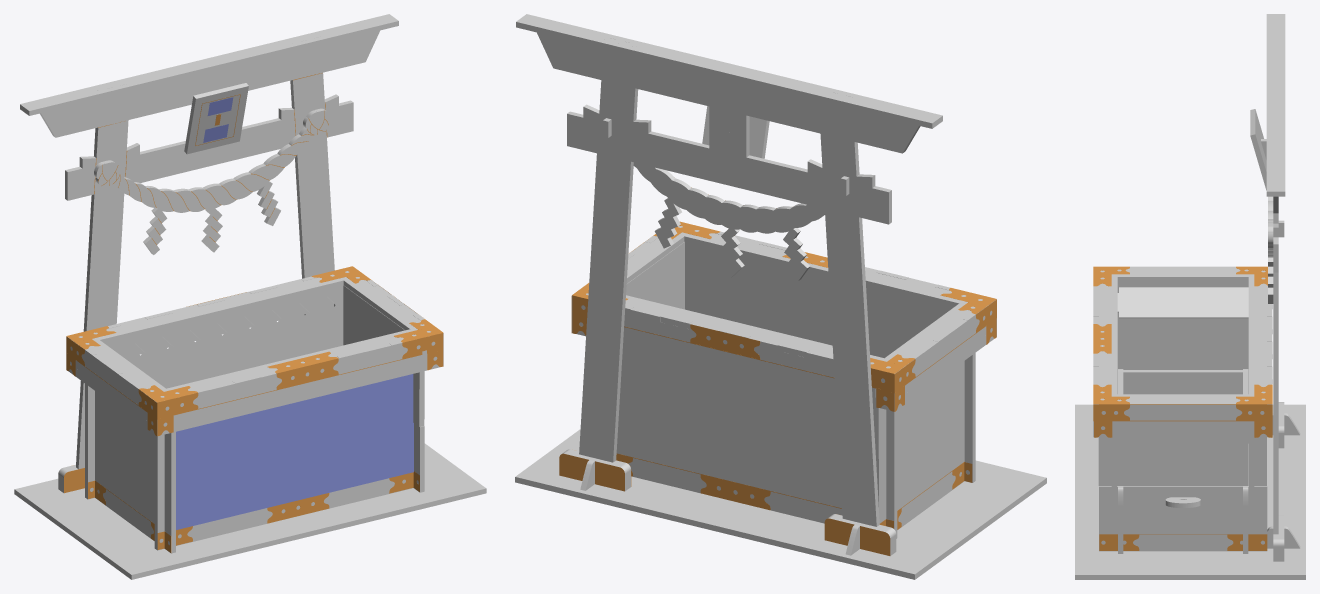
File: saisenglb4.glb
3 renders of one model, left to right at view 1: azimuth 30°, elevation 25°; view 2: azimuth 150°, elevation 25°; view 3: azimuth 270°, elevation 25°, orthographic. The views are drawn at different scales.
Visible parts, largest first — view 1: 本体.014, 刻印３(大きな文字), 本体.040, 本体.002, 茶色, 本体.033, 本体.011, 本体.041, 本体.043, 本体.010, 本体.003, 本体.004 (+3 smaller); view 2: 本体.014, 本体.002, 本体.040, 本体.003, 茶色, 本体.011, 本体.033, 本体.041, 本体.010, 本体.034, 本体.045, 本体.012 (+1 smaller); view 3: 本体.040, 本体.013, 本体.011, 本体.012, 本体.033, 茶色, 本体.044, 本体.016, 本体.010, 本体.050, 本体.014, 本体.004 (+8 smaller).
Boxes of the visible parts, <box> form: 本体.014: <box>40,30,380,492</box>; 刻印３(大きな文字): <box>176,374,413,529</box>; 本体.040: <box>14,443,486,579</box>; 本体.002: <box>75,285,343,499</box>; 茶色: <box>64,73,443,552</box>; 本体.033: <box>68,271,443,402</box>; 本体.011: <box>95,391,178,553</box>; 本体.041: <box>94,108,330,254</box>; 本体.043: <box>157,338,443,435</box>; 本体.010: <box>20,14,398,115</box>; 本体.003: <box>145,371,424,550</box>; 本体.004: <box>184,83,248,154</box>; 本体.014: <box>537,32,920,553</box>; 本体.002: <box>616,345,907,538</box>; 本体.040: <box>515,429,1046,579</box>; 本体.003: <box>685,242,986,482</box>; 茶色: <box>559,187,996,555</box>; 本体.011: <box>872,361,964,529</box>; 本体.033: <box>572,226,996,373</box>; 本体.041: <box>633,162,824,280</box>; 本体.010: <box>516,14,942,128</box>; 本体.034: <box>572,301,897,411</box>; 本体.045: <box>894,310,996,409</box>; 本体.012: <box>626,242,684,309</box>; 本体.040: <box>1075,404,1305,579</box>; 本体.013: <box>1099,484,1267,551</box>; 本体.011: <box>1117,281,1248,393</box>; 本体.012: <box>1098,437,1266,485</box>; 本体.033: <box>1093,266,1272,409</box>; 茶色: <box>1093,266,1272,550</box>; 本体.044: <box>1093,402,1266,437</box>; 本体.016: <box>1117,287,1248,318</box>; 本体.010: <box>1266,14,1285,196</box>; 本体.050: <box>1123,370,1242,394</box>; 本体.014: <box>1273,48,1278,561</box>; 本体.004: <box>1250,109,1266,190</box>.
Size of the model in its own units: 156 by 163 by 85.56.
